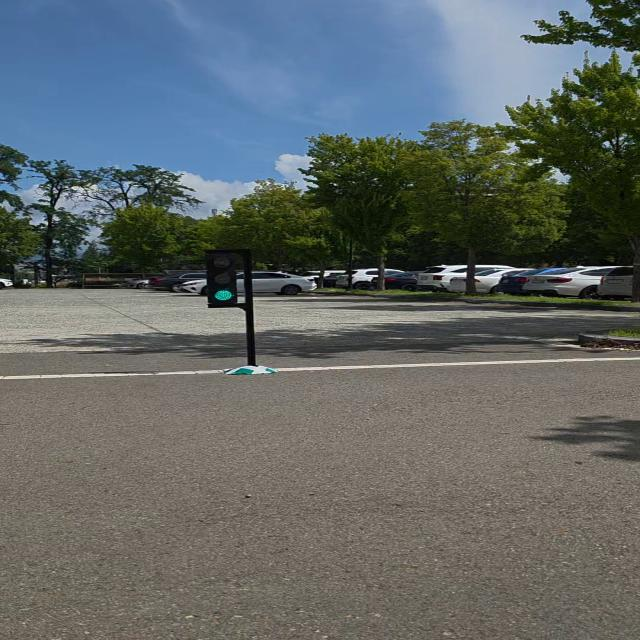green: (203, 246, 246, 308)
